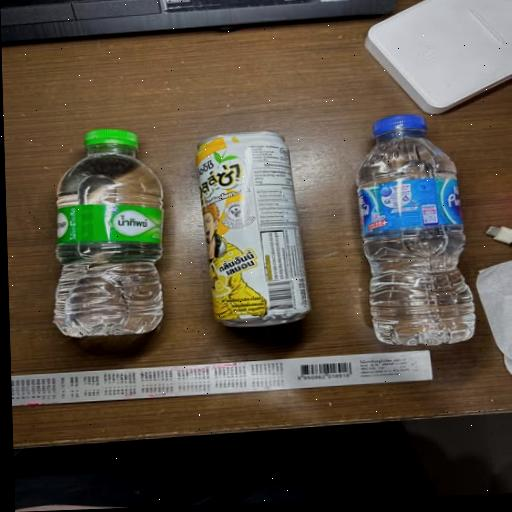ba: (18, 108, 191, 350), (327, 105, 494, 354)
bottle: (188, 108, 327, 347)
